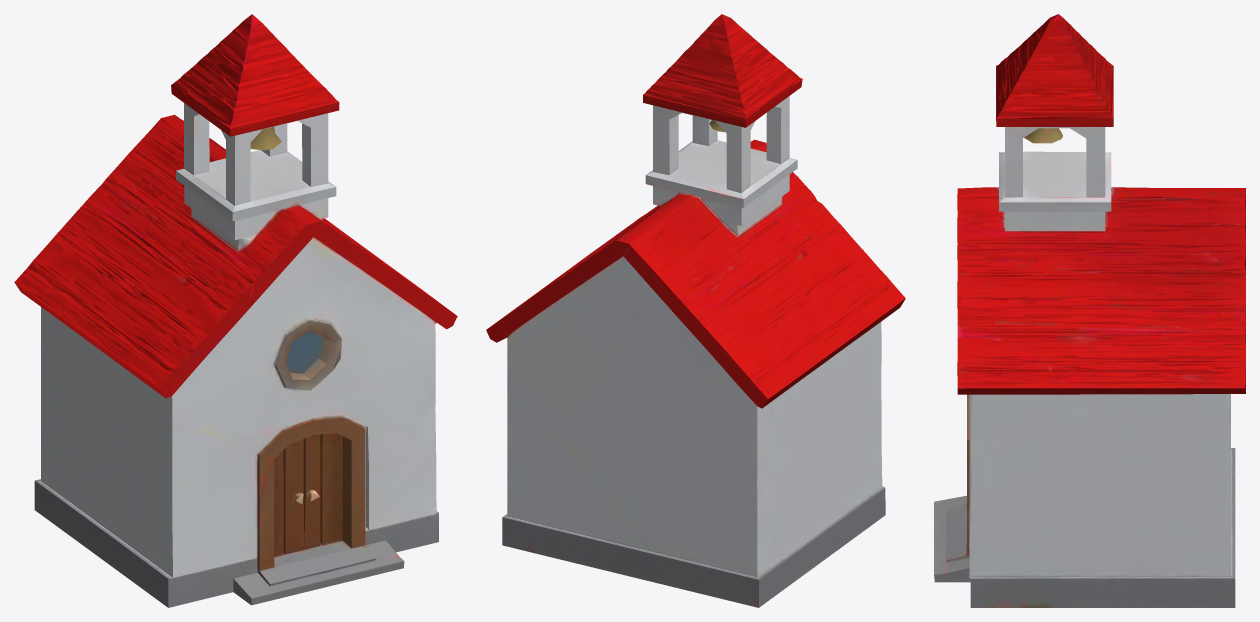
Rendered from church.glb.
3 views of the same model, side by side, from view 1: azimuth 30°, elevation 25°; view 2: azimuth 150°, elevation 25°; view 3: azimuth 270°, elevation 25° (orthographic). The views are drawn at different scales.
Parts seen in each view (by area): view 1: model; view 2: model; view 3: model.
Part boxes in pixels (bbox=[...]): model: bbox=[14, 14, 457, 607]; model: bbox=[486, 14, 905, 607]; model: bbox=[934, 14, 1245, 607].
Bounding box in the file's own units: 1.12 × 1.9 × 1.02.
Materials: 1 (1 with a texture image).
